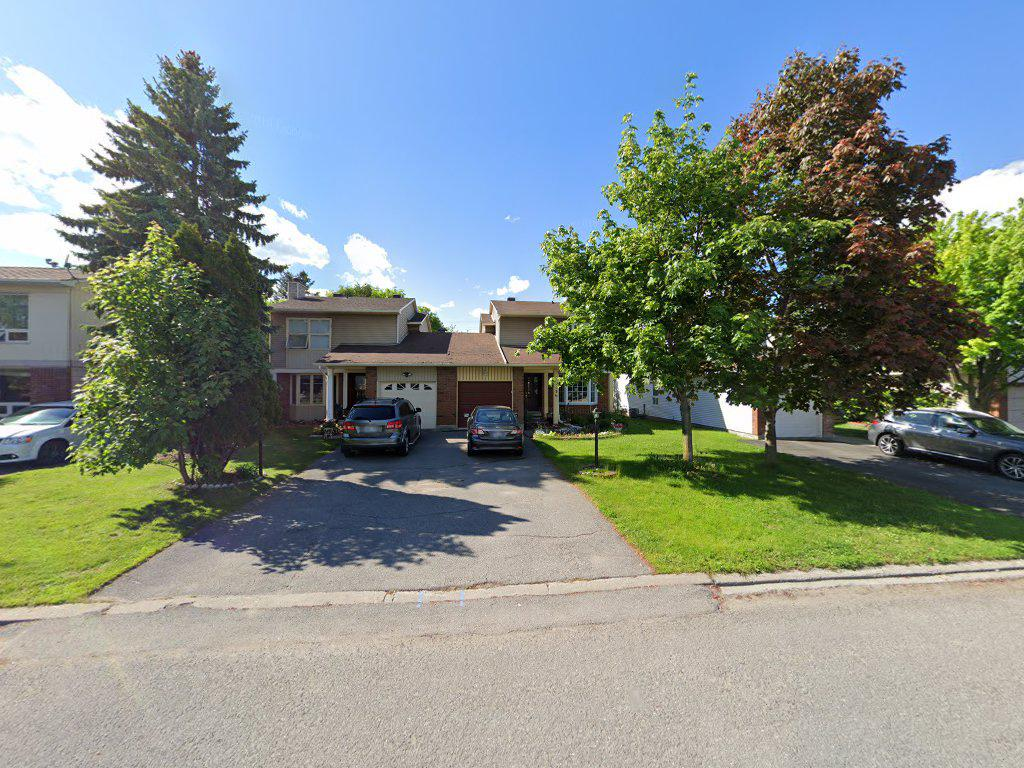trunk: (672, 391, 704, 479), (758, 406, 782, 475)
